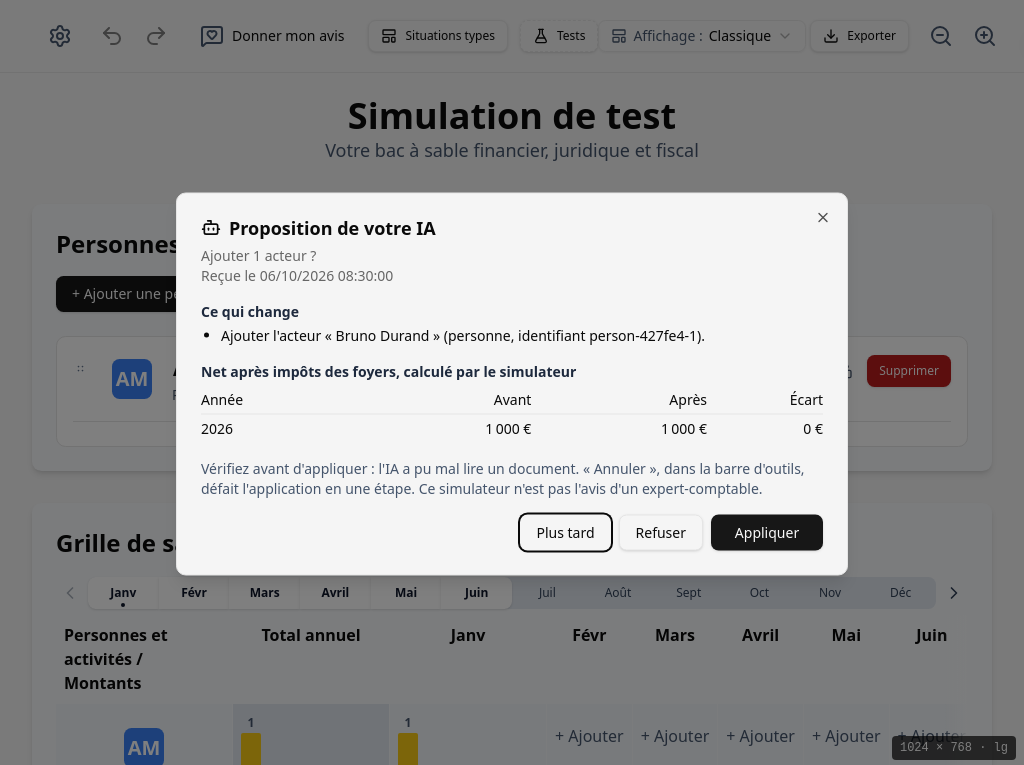
Scenario: App : propositions d'un client d'IA › montre la proposition, l'applique en une seule étape d'annulation et la retire de la boîte
This screenshot has width=1024, height=765.
Check: the heading "Simulation de test" is shown, box [348, 91, 676, 140]
Check: the text "Ajouter 1 acteur ? Reçue le 06/10/2026 08:30:00" is shown, box [201, 246, 393, 284]
Step 1. Click the button "Appliquer" → coordinates (767, 532), box [711, 514, 823, 550]
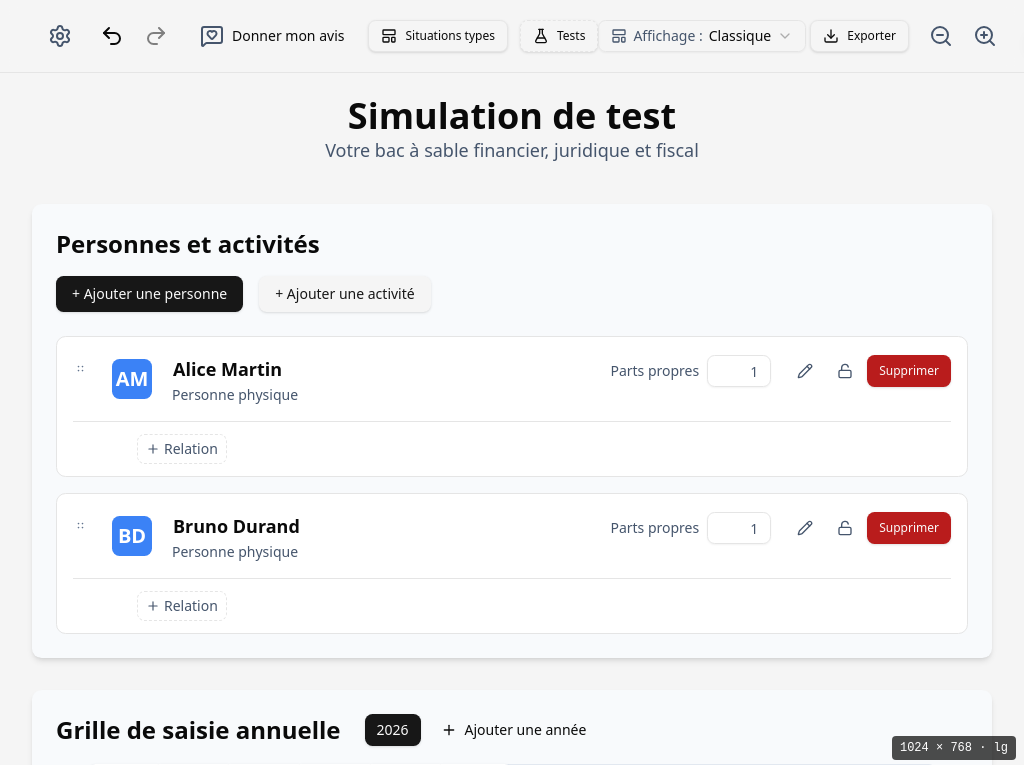
Check: the dialog is gone
Une seule étape : « Annuler » revient à la session d'avant, puis plus rien à annuler.
Step 2. Click the button named "Annuler" → coordinates (112, 36), box [92, 16, 132, 56]
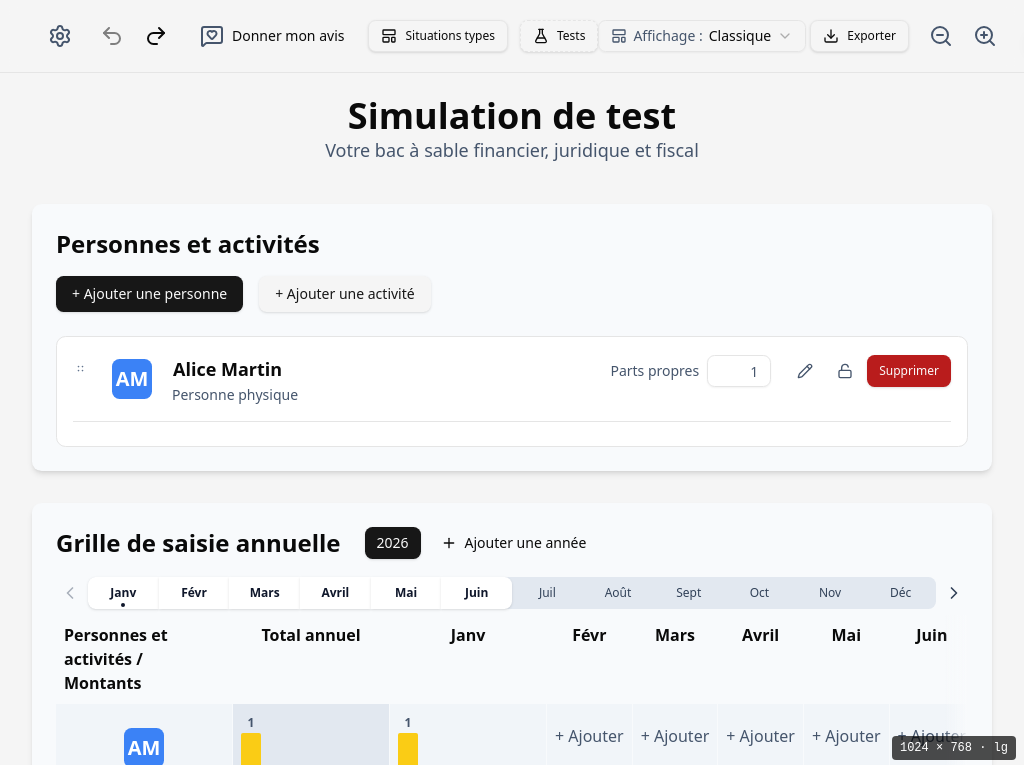
Check: the button named "Annuler" is disabled, box [92, 16, 132, 56]
